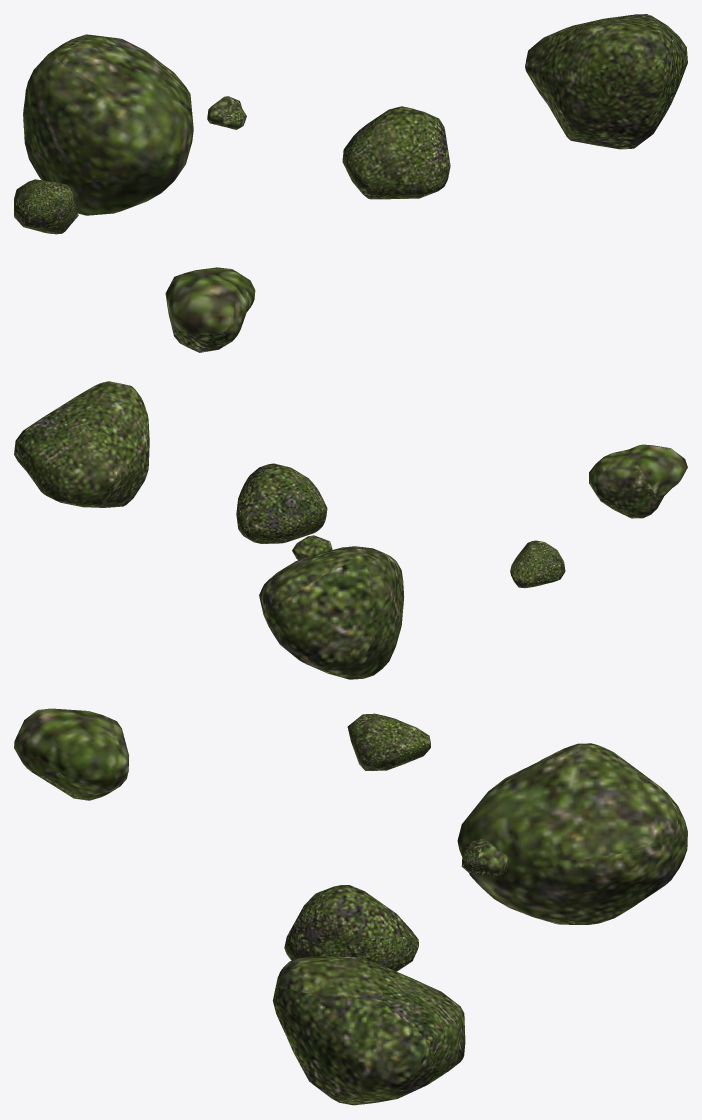
The model's file is SM_Rock_group_small_04.fbx.
3 renders of one model, top to bottom at view 1: azimuth 30°, elevation 25°; view 2: azimuth 150°, elevation 25°; view 3: azimuth 270°, elevation 25°, orthographic. The views are drawn at different scales.
Visible parts, largest first — view 1: SM_Rock_group_small_04_LOD0; view 2: SM_Rock_group_small_04_LOD0; view 3: SM_Rock_group_small_04_LOD0.
Boxes of the visible parts, x1,y1,x2,y2 form: SM_Rock_group_small_04_LOD0: [14, 14, 687, 352]; SM_Rock_group_small_04_LOD0: [14, 381, 687, 679]; SM_Rock_group_small_04_LOD0: [14, 708, 687, 1105].
Size of the model in its own units: 212 by 176 by 50.29.
1 material, 1 textured.
